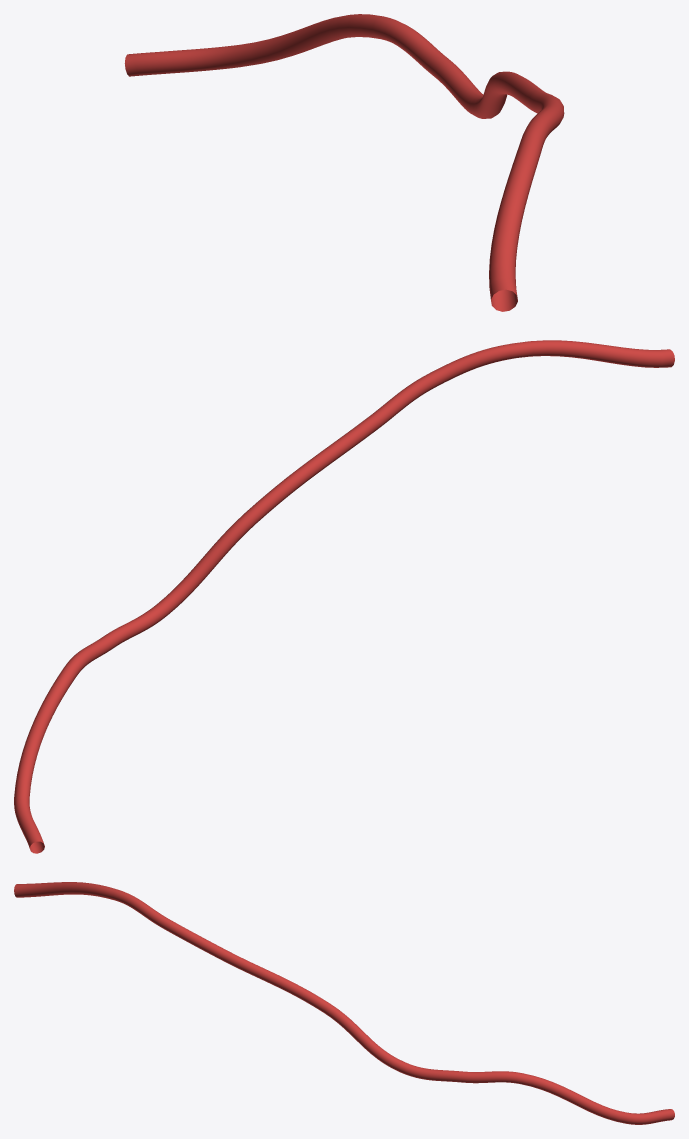
The picture shows the model from 3 angles, top to bottom: view 1: azimuth 30°, elevation 25°; view 2: azimuth 150°, elevation 25°; view 3: azimuth 270°, elevation 25°; orthographic projection. The views are drawn at different scales.
Parts seen in each view (by area): view 1: 左侧桡侧副动脉; view 2: 左侧桡侧副动脉; view 3: 左侧桡侧副动脉.
Boxes of the visible parts, box(x1,y1,x2,y2) form: 左侧桡侧副动脉: box(124, 14, 564, 311); 左侧桡侧副动脉: box(14, 340, 674, 853); 左侧桡侧副动脉: box(14, 882, 674, 1124).
Size of the model in its own units: 0.075 by 0.0681 by 0.2118.
